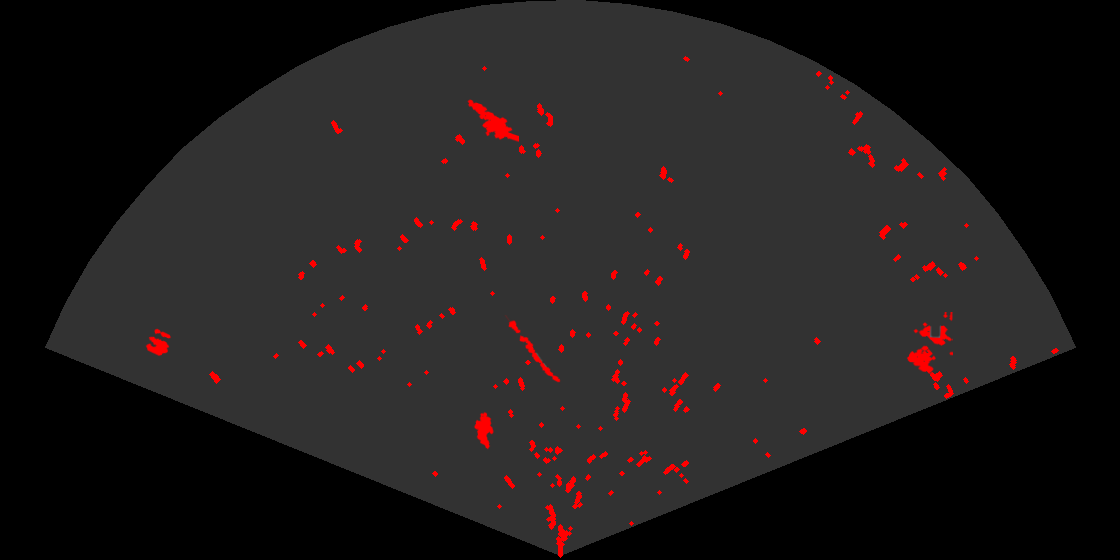AUV: (472, 410, 495, 451)
ball: (144, 327, 173, 358)
cage: (905, 312, 953, 375)
chain: (503, 315, 562, 384)
frogman: (465, 98, 519, 144)
